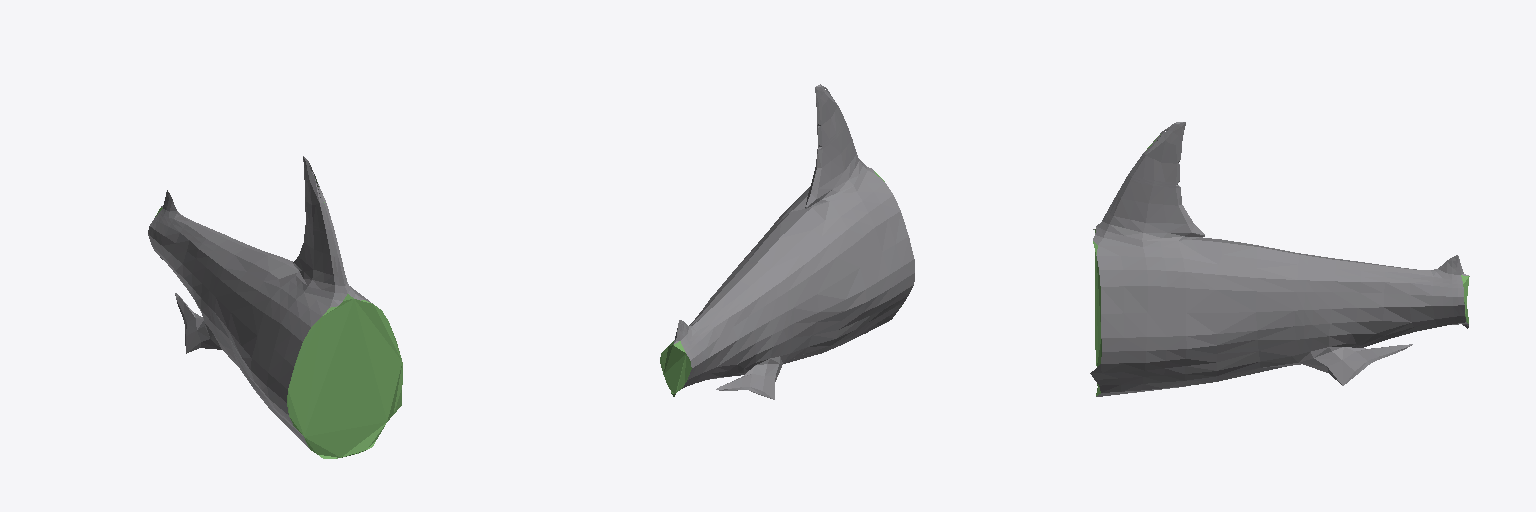
File: CuerpoPrinTiburon.obj
The picture shows the model from 3 angles: view 1: azimuth 30°, elevation 25°; view 2: azimuth 150°, elevation 25°; view 3: azimuth 270°, elevation 25°; orthographic projection.
Visible parts, largest first — view 1: CuerpoPrin; view 2: CuerpoPrin; view 3: CuerpoPrin.
Part boxes in pixels (x1,y1,x2,y2): CuerpoPrin: (148, 156, 402, 458); CuerpoPrin: (660, 84, 914, 399); CuerpoPrin: (1090, 122, 1469, 396).
Bounding box in the file's own units: 3.59 × 7.93 × 10.13.